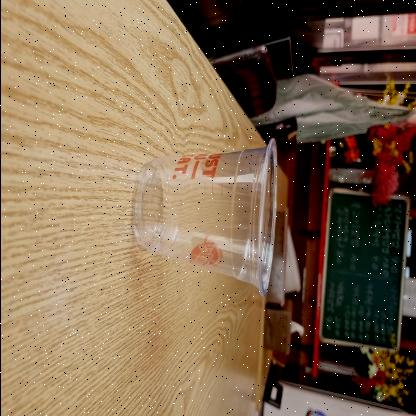Others: (127, 131, 284, 300)
